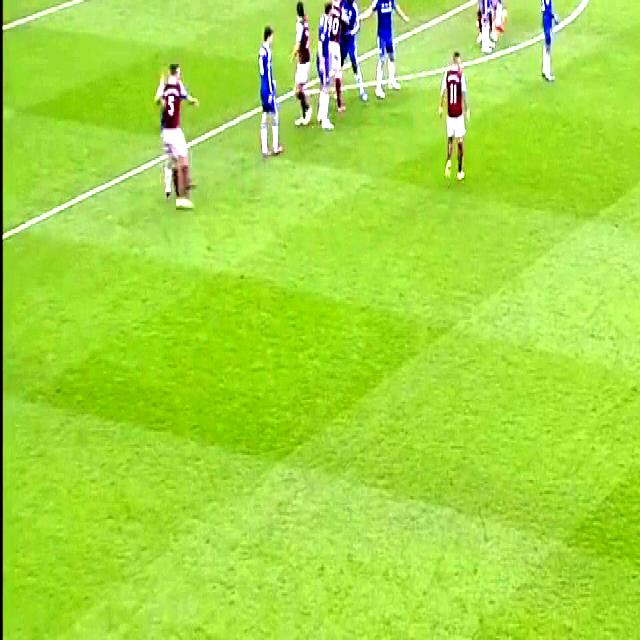soccer-player: (149, 46, 202, 211), (434, 41, 472, 185), (252, 15, 286, 160), (368, 0, 412, 108), (310, 0, 340, 128), (287, 0, 315, 137), (334, 0, 364, 103), (535, 0, 565, 87), (480, 0, 509, 52), (467, 0, 491, 52)
